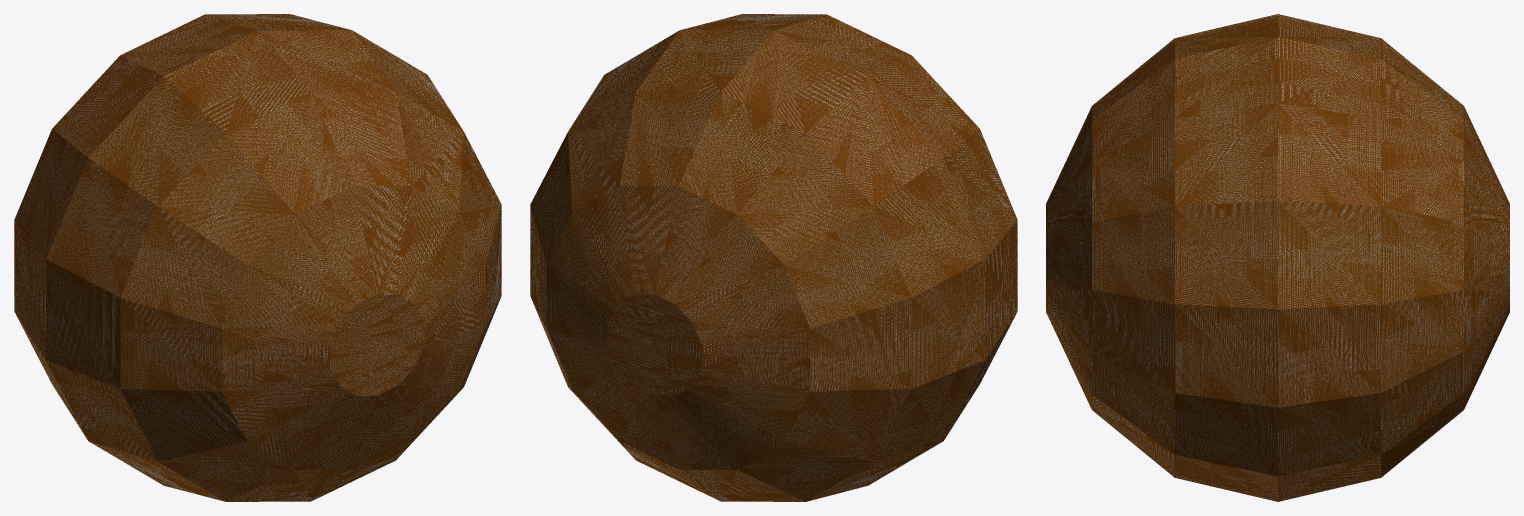
File: Boulder_Dirt_01.fbx
3 renders of one model, left to right at view 1: azimuth 30°, elevation 25°; view 2: azimuth 150°, elevation 25°; view 3: azimuth 270°, elevation 25°, orthographic. The views are drawn at different scales.
Visible parts, largest first — view 1: Model; view 2: Model; view 3: Model.
Part boxes in pixels (x1,y1,x2,y2): Model: [14, 14, 501, 501]; Model: [530, 14, 1017, 501]; Model: [1046, 14, 1509, 501].
Bounding box in the file's own units: 506 × 519 × 493.
